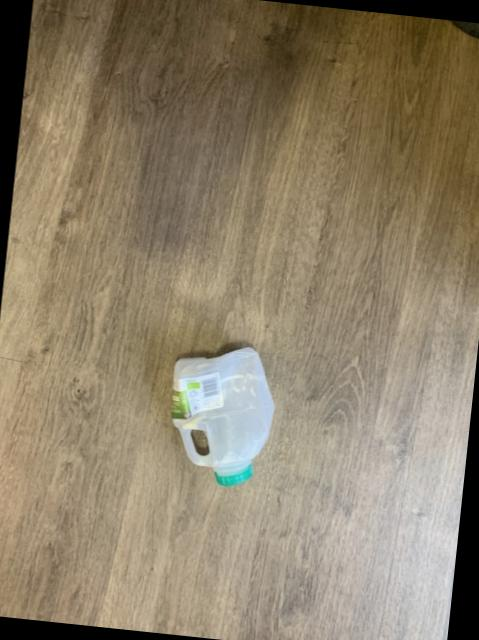plastic: (170, 349, 272, 487)
